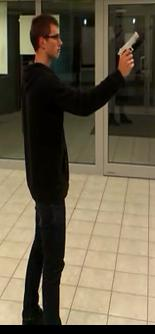pistol: (117, 31, 139, 68)
